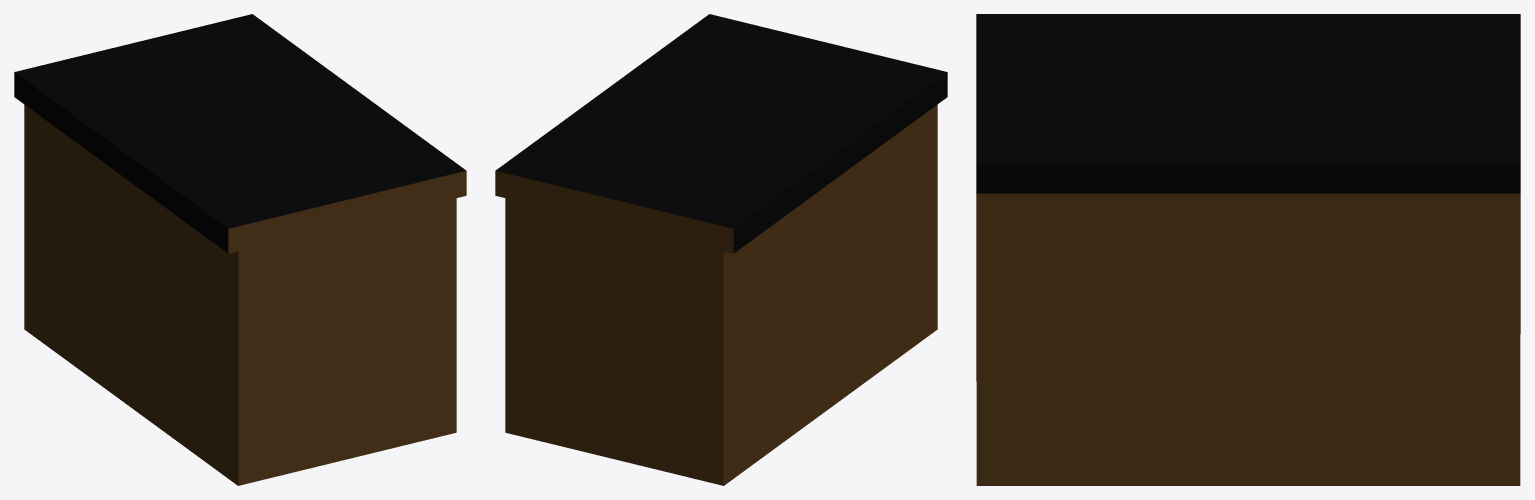
Rendered from counter_center.fbx.
3 renders of one model, left to right at view 1: azimuth 30°, elevation 25°; view 2: azimuth 150°, elevation 25°; view 3: azimuth 270°, elevation 25°, orthographic. The views are drawn at different scales.
Parts seen in each view (by area): view 1: Cube; view 2: Cube; view 3: Cube.
Part boxes in pixels (bbox=[...]): Cube: bbox=[14, 14, 466, 485]; Cube: bbox=[495, 14, 947, 485]; Cube: bbox=[976, 14, 1520, 485].
Bounding box in the file's own units: 449 × 468 × 699.
